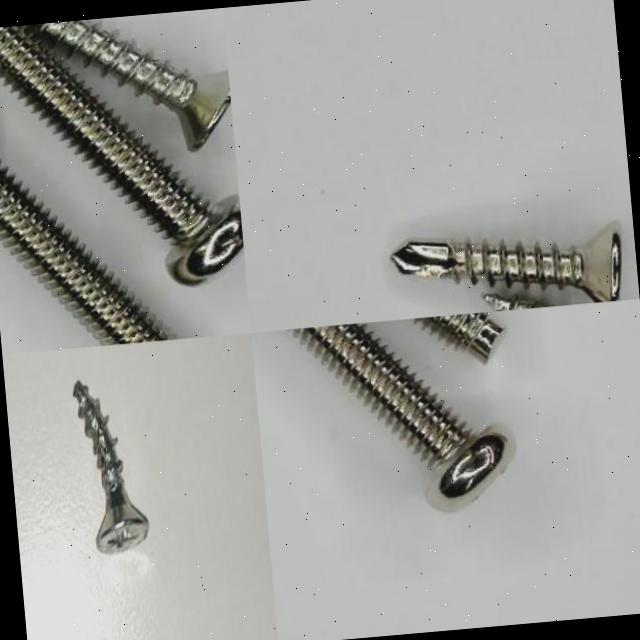Screw: (0, 25, 243, 285), (291, 323, 513, 512), (0, 166, 173, 345), (33, 19, 230, 150), (390, 222, 622, 302), (72, 381, 148, 555)
